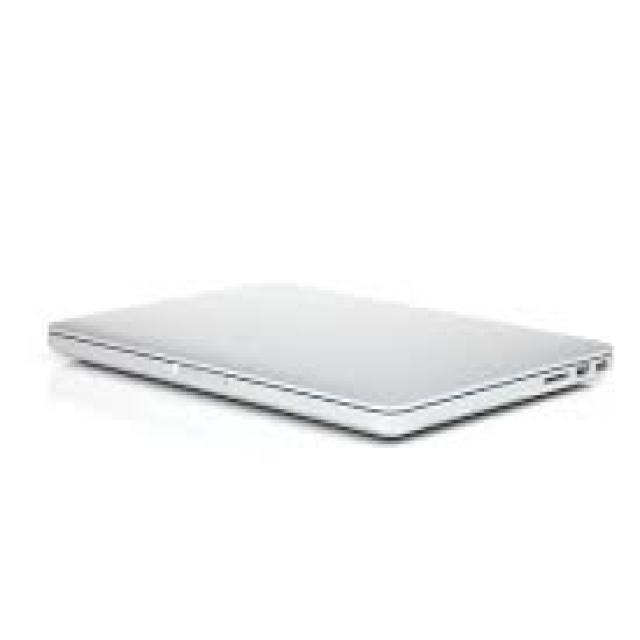laptop: (46, 280, 616, 446)
